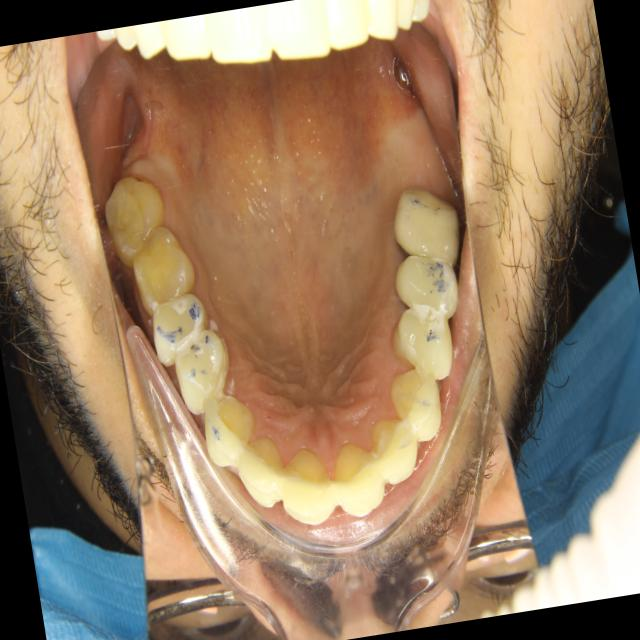tooth: (94, 160, 180, 269), (385, 169, 471, 270), (272, 416, 343, 536), (374, 348, 455, 451), (118, 225, 206, 317), (382, 286, 462, 387), (158, 322, 239, 417), (322, 429, 398, 526), (188, 380, 263, 478), (387, 240, 469, 327), (139, 280, 217, 368), (226, 420, 292, 522), (358, 406, 430, 490)
